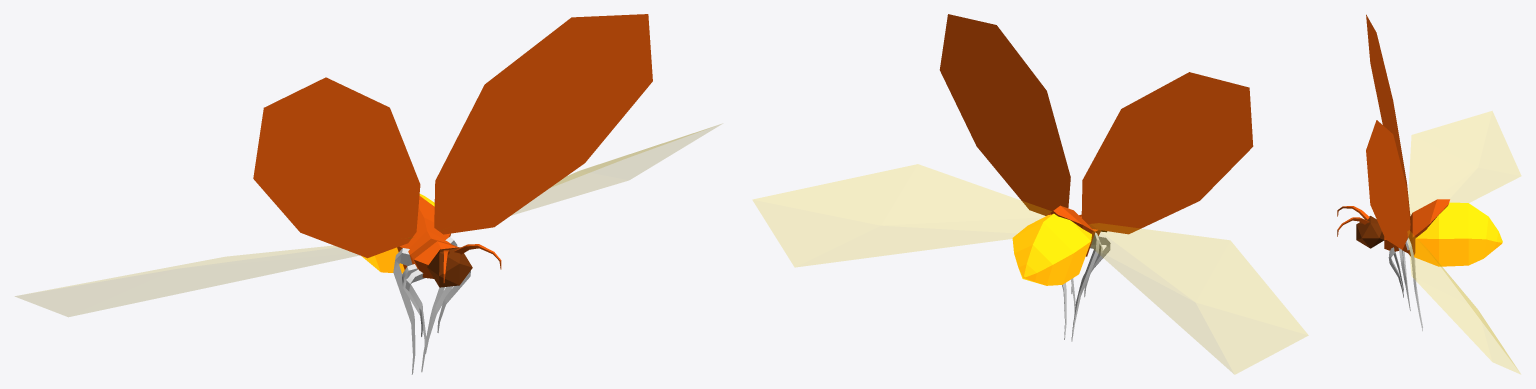
File: firefly1.dae
3 views of the same model, side by side, from view 1: azimuth 30°, elevation 25°; view 2: azimuth 150°, elevation 25°; view 3: azimuth 270°, elevation 25° (orthographic). The views are drawn at different scales.
Visible parts, largest first — view 1: shield, right_wing, left_wing, torso, head, Polygon.2, Polygon, Polygon.1, bulb; view 2: shield, left_wing, right_wing, bulb, Polygon.2, torso; view 3: right_wing, shield, bulb, left_wing, torso, head, Polygon (×2), Polygon.2, Polygon.1.
Boxes of the visible parts, x1,y1,x2,y2 form: shield: (253, 14, 652, 258); right_wing: (15, 238, 410, 316); left_wing: (513, 124, 720, 214); torso: (397, 196, 458, 278); head: (427, 247, 472, 287); Polygon.2: (393, 237, 457, 374); Polygon: (405, 269, 470, 336); Polygon.1: (402, 264, 452, 353); bulb: (361, 194, 434, 273); shield: (939, 14, 1253, 234); left_wing: (753, 164, 1051, 266); right_wing: (1089, 223, 1307, 373); bulb: (1012, 213, 1091, 285); Polygon.2: (1062, 232, 1099, 341); torso: (1047, 205, 1101, 256); right_wing: (1409, 111, 1520, 213); shield: (1366, 14, 1410, 249); bulb: (1414, 202, 1502, 266); left_wing: (1408, 230, 1520, 373); torso: (1384, 199, 1449, 256); head: (1356, 216, 1384, 248); Polygon (×2): (1337, 206, 1403, 297); Polygon.2: (1403, 237, 1422, 331); Polygon.1: (1398, 248, 1410, 310).
Size of the model in its own units: 128 by 60.09 by 39.55.
